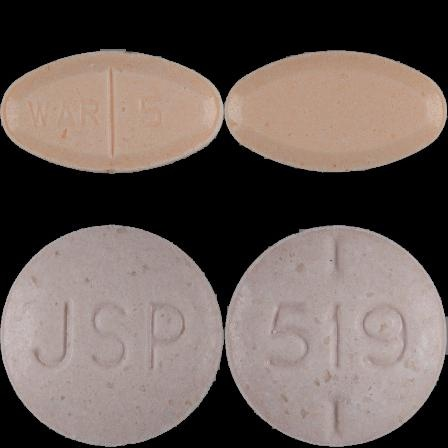51655-283: (0, 0, 224, 224)
